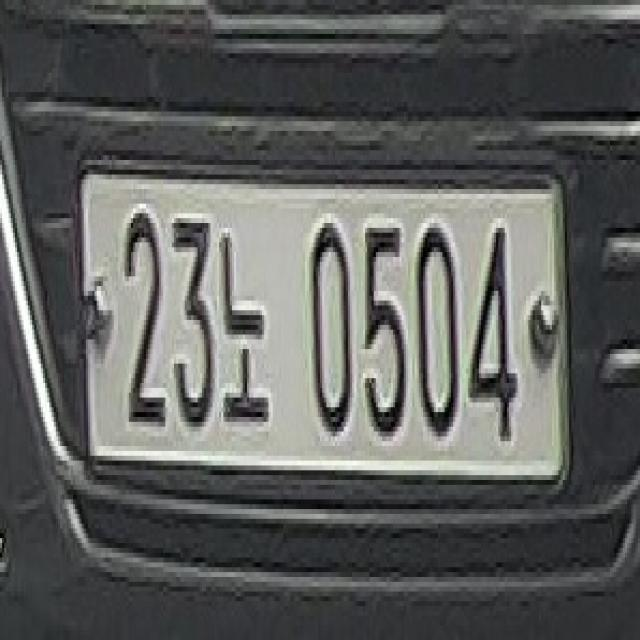0: (412, 206, 469, 459), (307, 207, 355, 451)
2: (118, 200, 169, 438)
3: (169, 205, 219, 440)
4: (465, 213, 531, 446)
5: (361, 215, 411, 457)
license_plate: (84, 174, 563, 479)
no: (220, 212, 276, 442)
